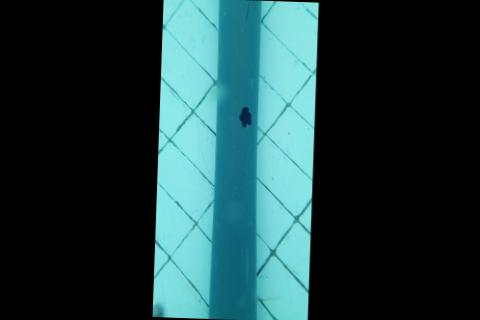kebocoran: (239, 106, 252, 128)
keretakan: (245, 0, 258, 21)
